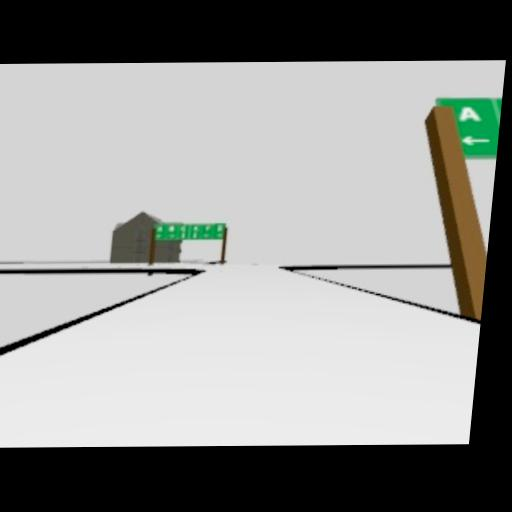A: (458, 104, 482, 121)
Left: (460, 135, 490, 145)
